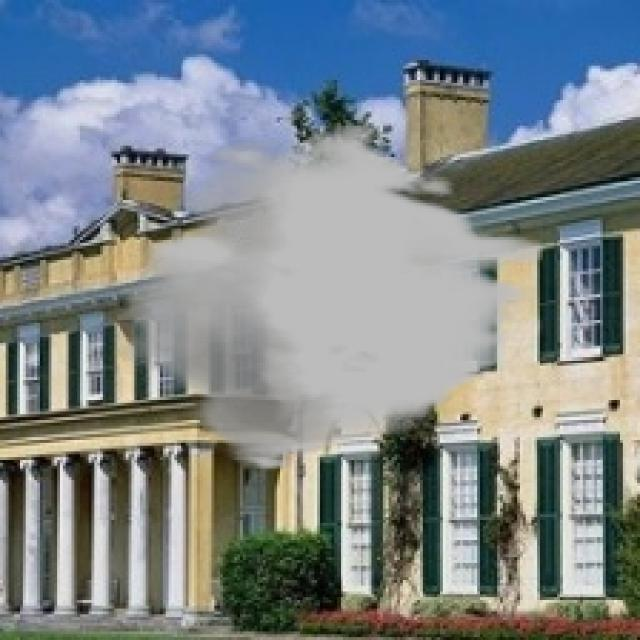Smoke: (117, 122, 543, 472)
